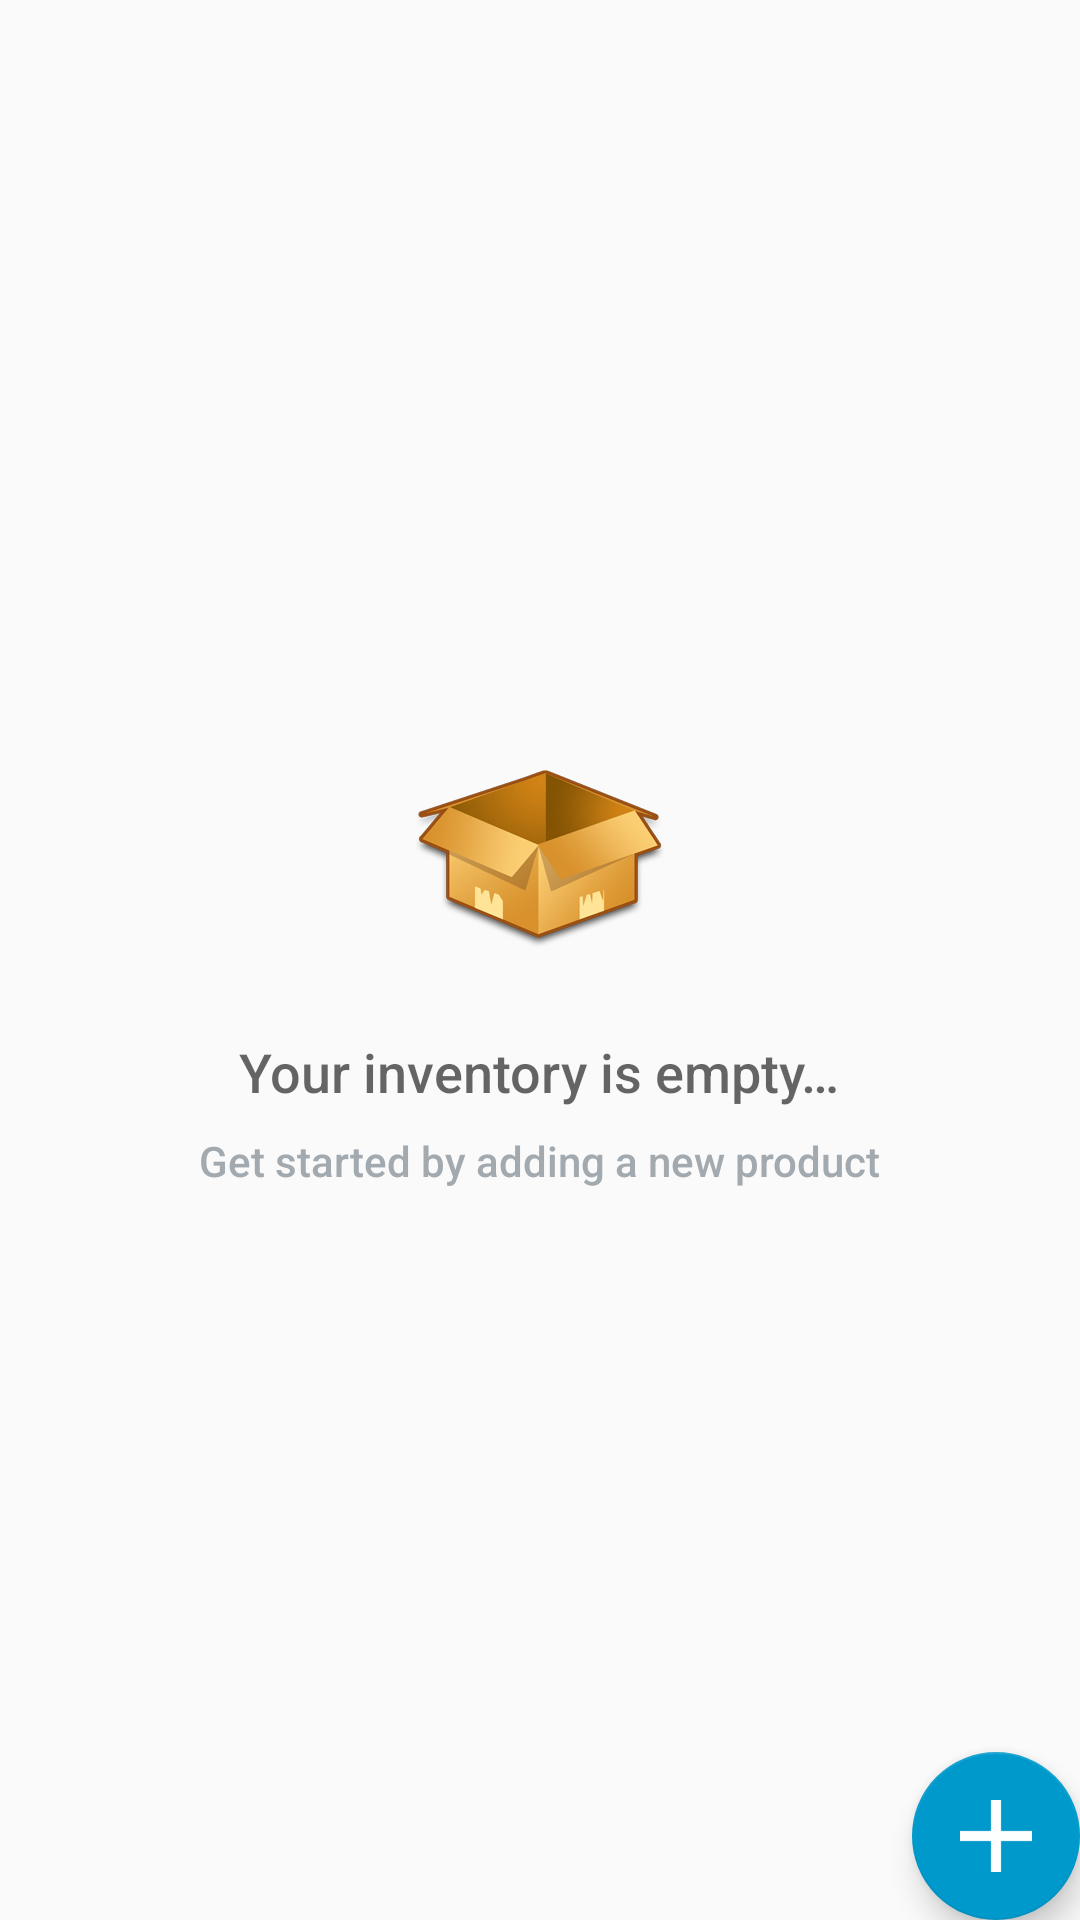

Point at icon controls on the screen. Image size 1080*1920, points as point (x, y).
add plus: point (996, 1836)
empty box: point (540, 857)
